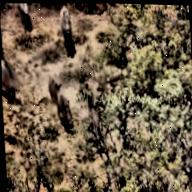boar: (1, 44, 23, 107), (57, 6, 76, 47), (59, 97, 74, 128), (21, 3, 34, 31), (51, 77, 59, 96)
